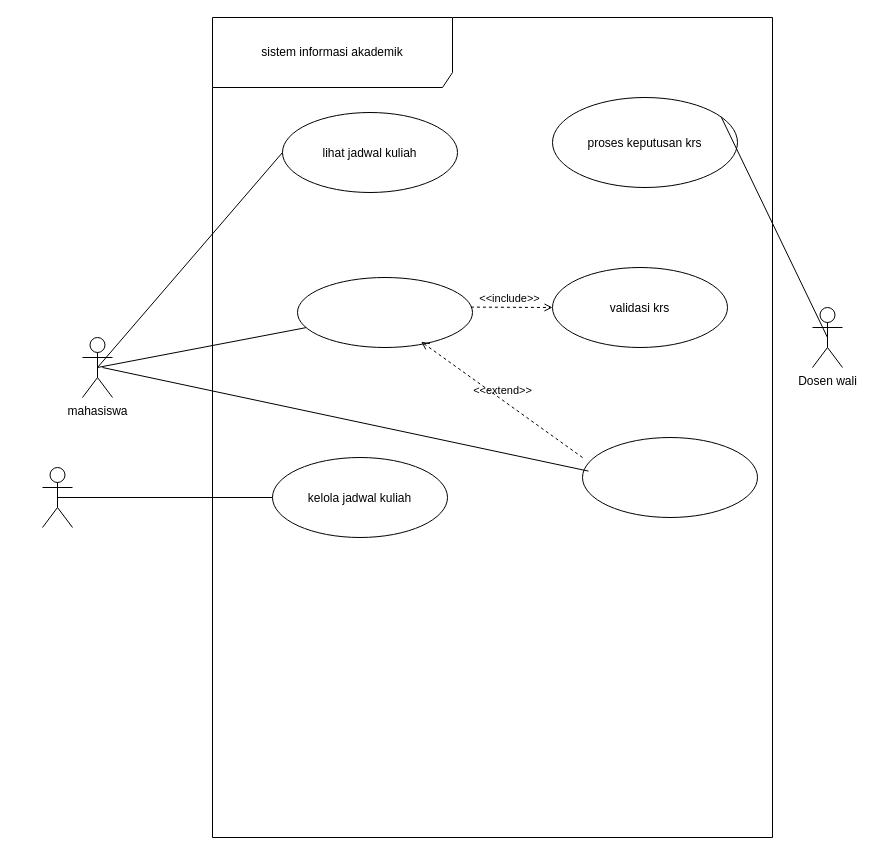
This 874x855 diagram has some shape labels left out. The centre of each missing label's shape, as x and y in pixels:
"admin akdemik" belongs at pixel 57 497.
"ajukan krs" belongs at pixel 384 312.
"unduh bukti pengajuan krs" belongs at pixel 670 477.
